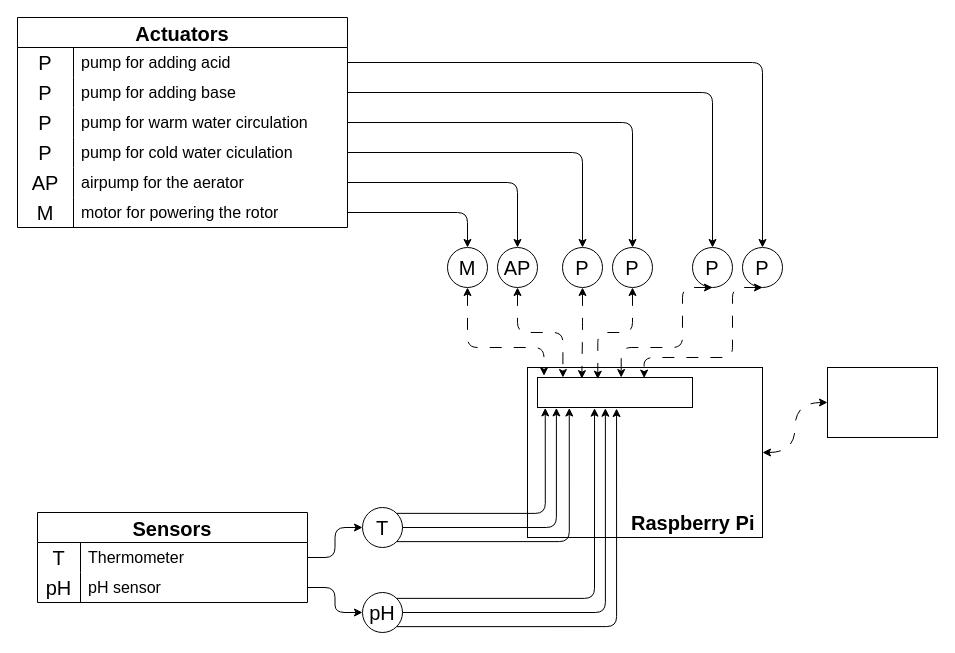
This 955x653 diagram has some shape labels left out. Each missing label, with the centre of its shape:
"Cloud Server" goes at (882,402).
"GPIO pins" goes at (614,392).
